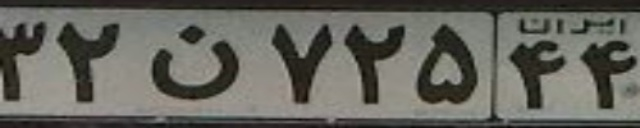2: (54, 20, 125, 102), (344, 22, 405, 105)
3: (2, 20, 49, 99)
4: (580, 38, 637, 109), (510, 39, 566, 110)
5: (414, 23, 477, 106)
7: (268, 23, 331, 103)
non: (148, 24, 242, 100)
